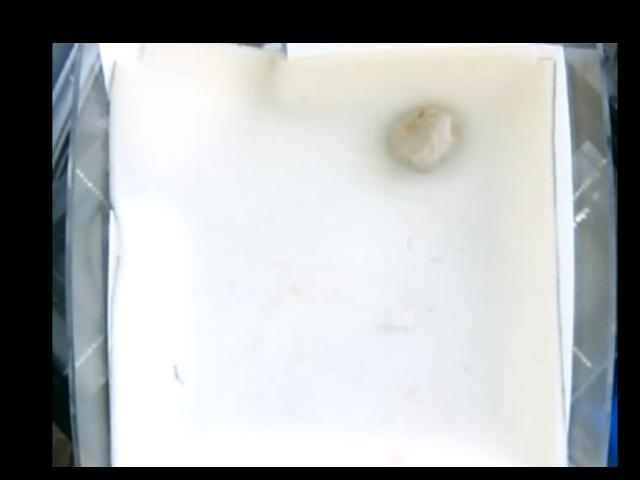Pebble: (387, 103, 456, 176)
